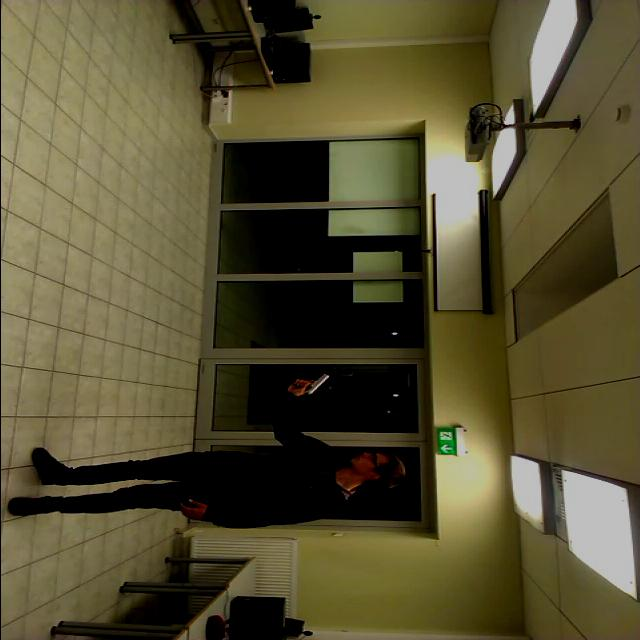handgun: (270, 364, 334, 398)
